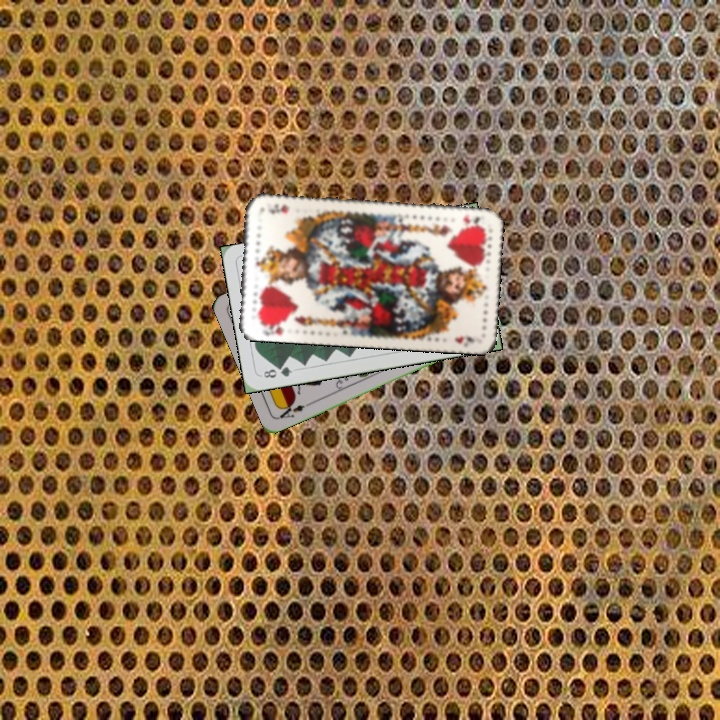EA: (275, 399, 313, 421)
G8: (259, 362, 295, 381)
HK: (256, 316, 288, 337), (459, 211, 486, 229)
